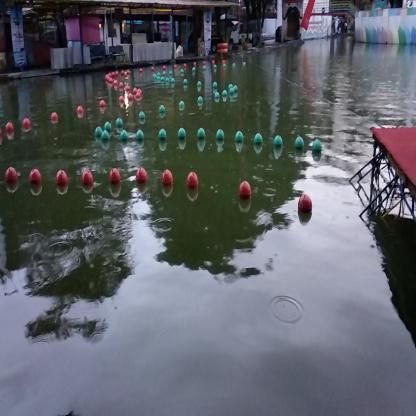green_buoy: (312, 141, 322, 158), (294, 138, 303, 155), (254, 134, 263, 150), (158, 128, 167, 141), (215, 130, 224, 143), (196, 130, 206, 141), (274, 138, 281, 153), (235, 132, 243, 143), (102, 132, 110, 143), (120, 130, 127, 142), (178, 130, 186, 140), (136, 131, 144, 141), (104, 122, 111, 132), (117, 118, 123, 129), (96, 127, 102, 138), (139, 113, 146, 122), (198, 97, 204, 107), (178, 104, 184, 113), (161, 106, 165, 115)
red_buoy: (297, 192, 312, 220), (238, 181, 252, 201), (108, 168, 121, 184), (186, 173, 198, 190), (161, 168, 173, 184), (30, 169, 42, 185), (5, 168, 18, 182), (56, 170, 68, 185), (82, 170, 93, 186), (136, 167, 146, 182), (5, 122, 14, 133), (22, 118, 30, 127), (76, 106, 84, 114), (50, 113, 58, 121), (99, 100, 105, 109), (127, 93, 133, 101), (119, 95, 124, 103)
